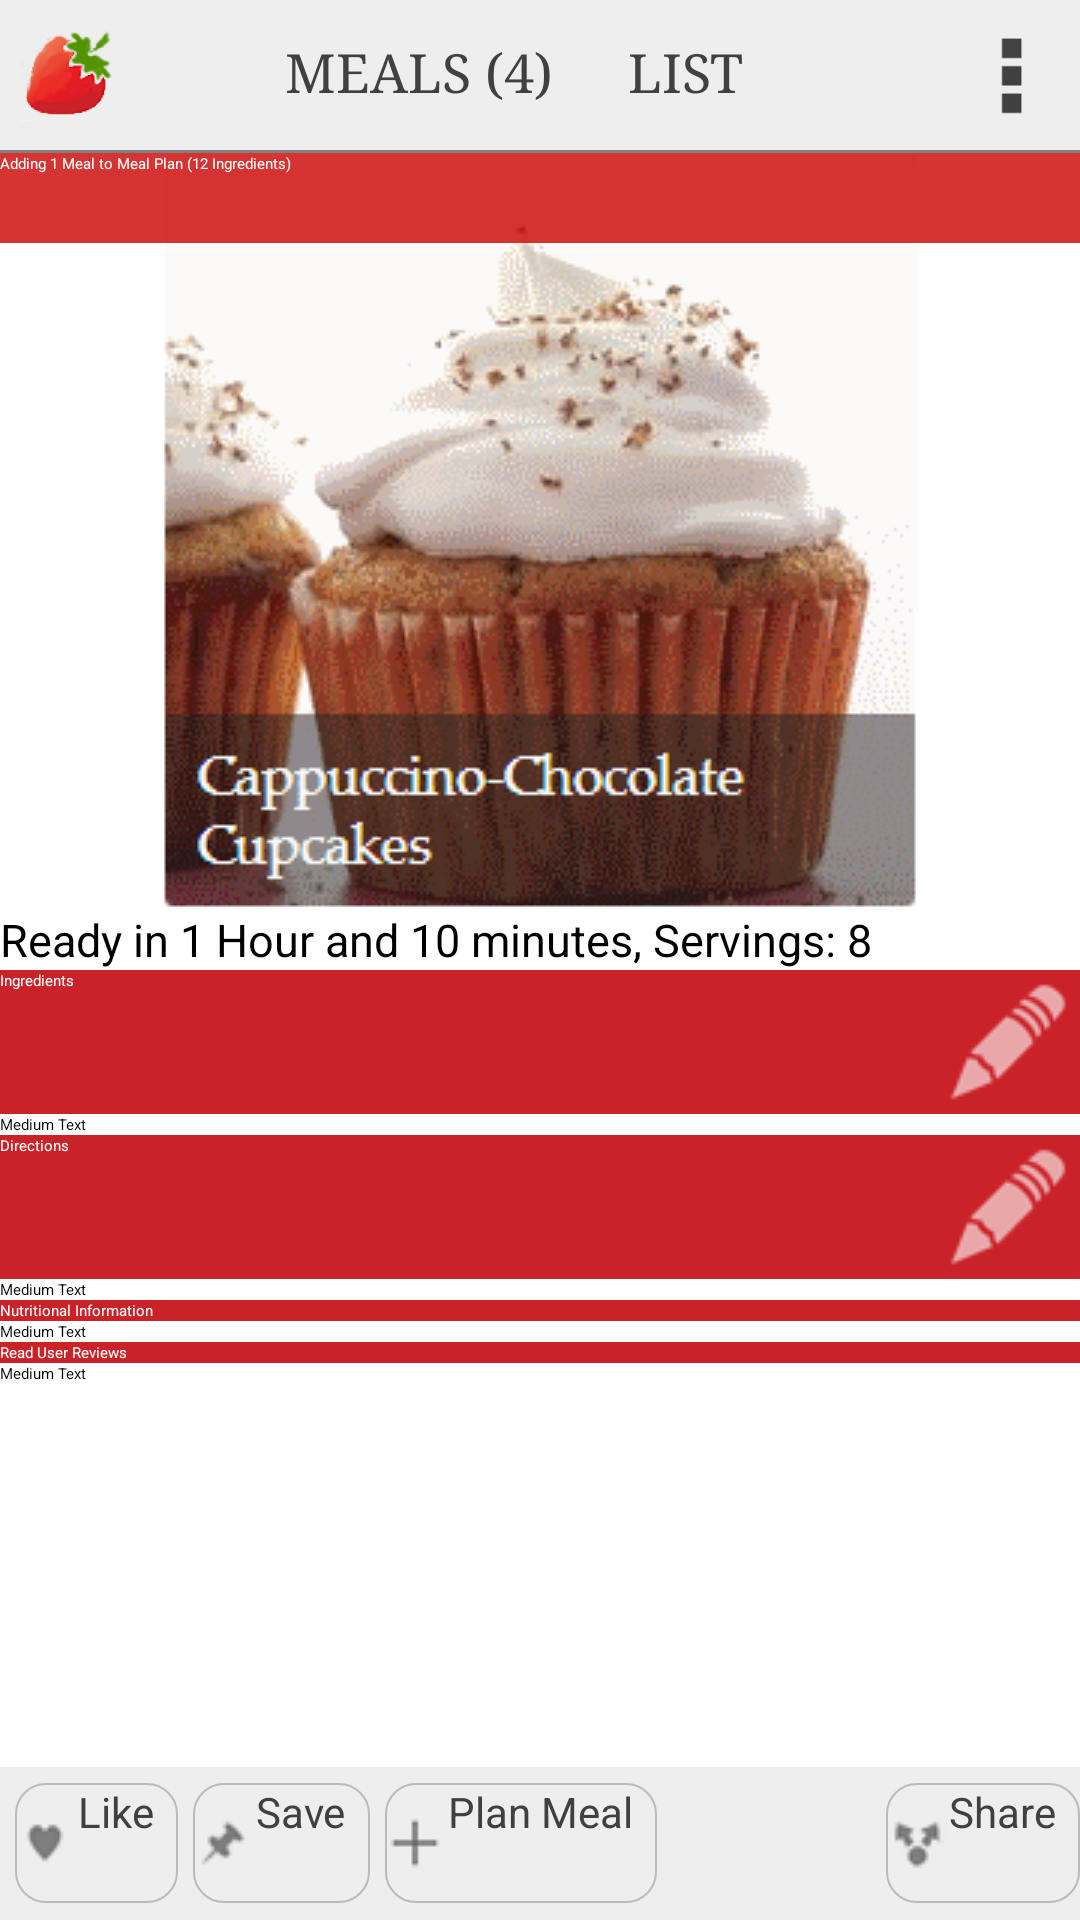

Icon click points for this 1080px x 1920px phone screenshot, format [x,y]:
options: [1011,76]
